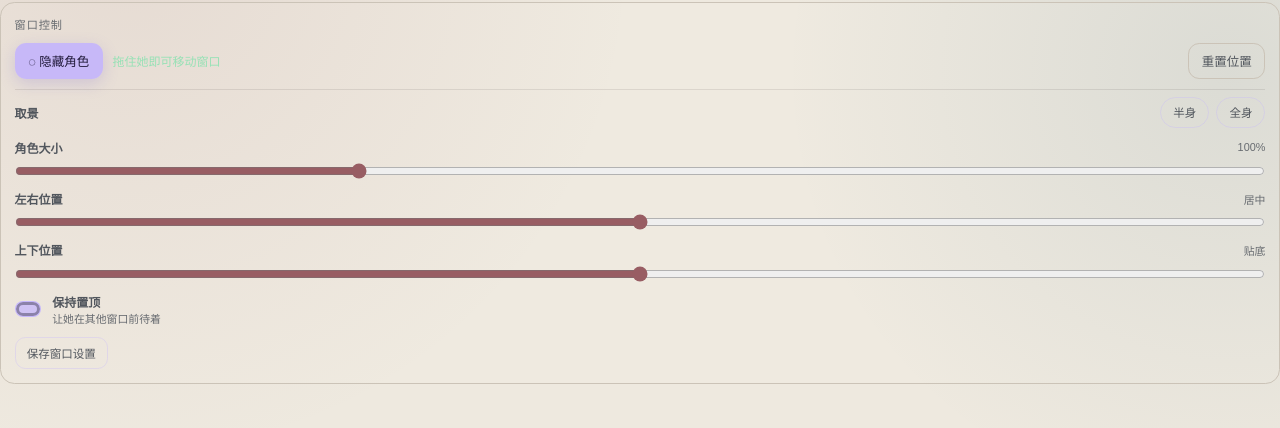
P3A-25 Live2dPreviewControls › 保存失败时显示恢复文案，不伪造成功状态
Click the button with class "save-settings" at coordinates (61, 353), box [15,337,108,369]
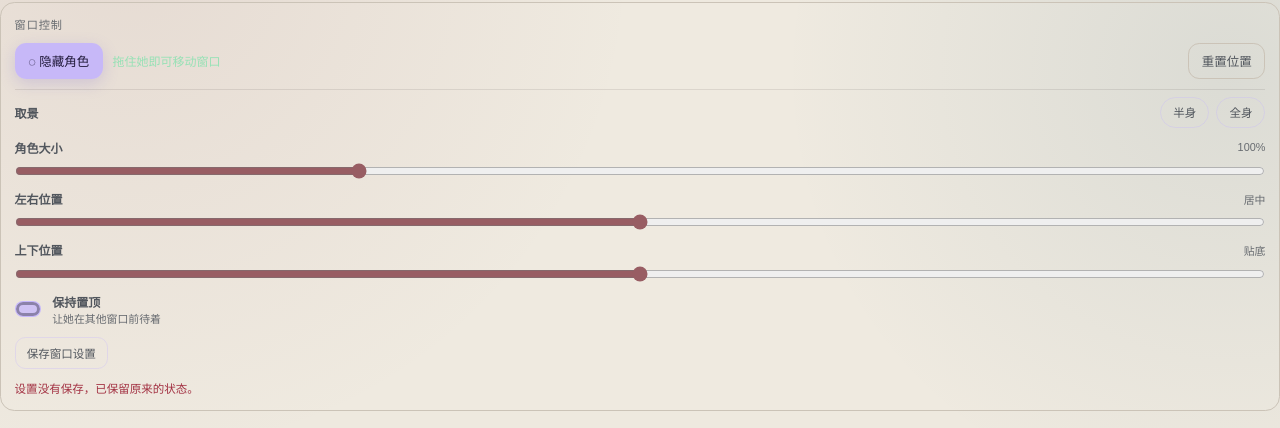
Expected: the message "设置没有保存，已保留原来的状态。" is shown, [15,383,199,395]
